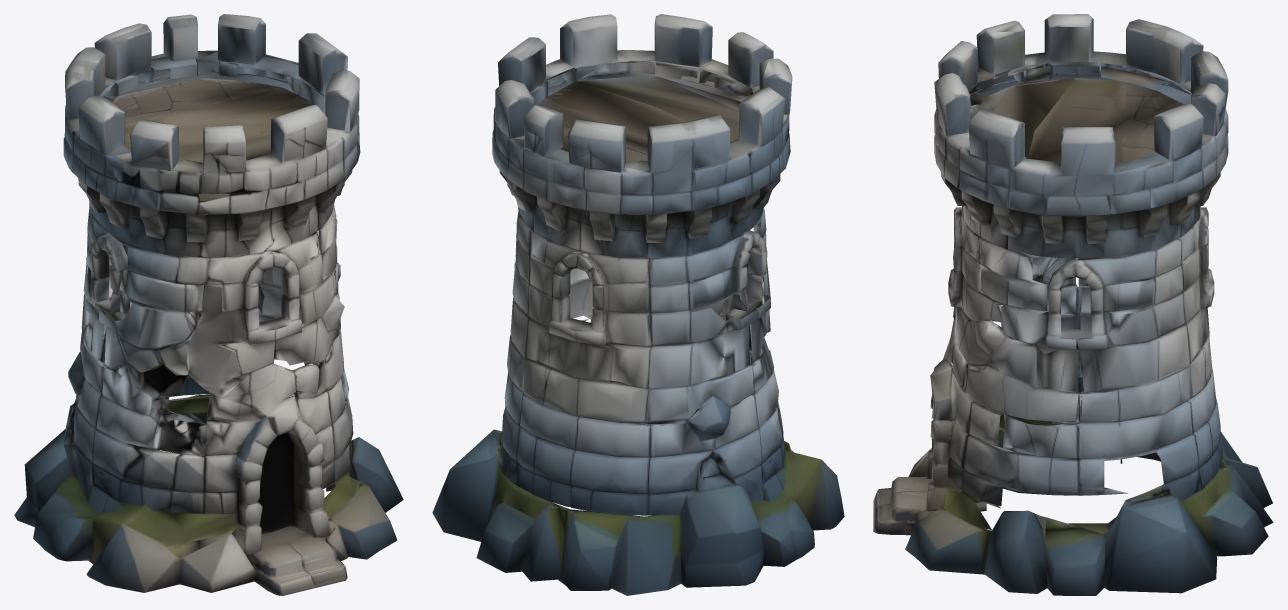
File: world_tower.glb
The picture shows the model from 3 angles, left to right: view 1: azimuth 30°, elevation 25°; view 2: azimuth 150°, elevation 25°; view 3: azimuth 270°, elevation 25°; orthographic projection.
Parts seen in each view (by area): view 1: material; view 2: material; view 3: material.
Part boxes in pixels (left/top/right/bottom): material: left=14, top=14, right=403, bottom=595; material: left=432, top=14, right=844, bottom=595; material: left=873, top=14, right=1273, bottom=595.
Bounding box in the file's own units: 1.47 × 1.9 × 1.55.
1 material, 1 textured.
